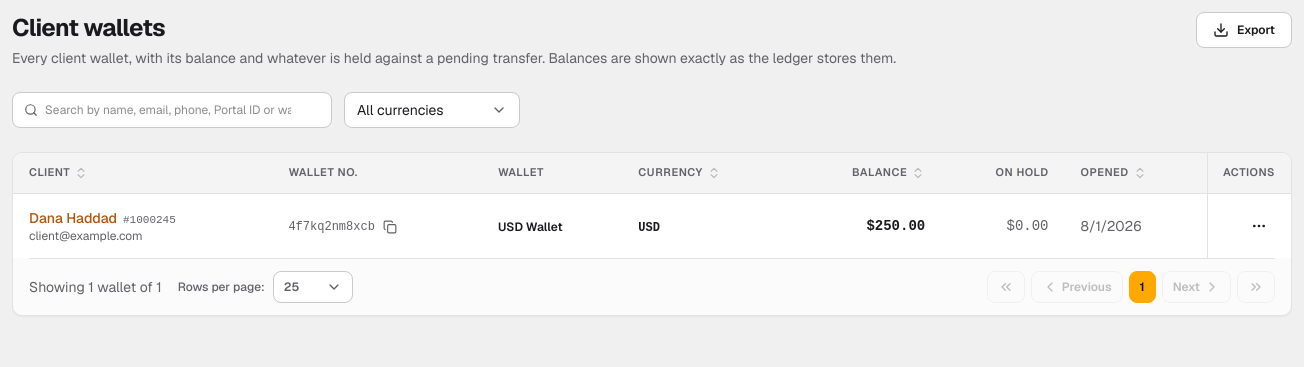
Test: wallets — one write action, and only one › offers add funds and close, and nothing else
Expected: the text "client@example.com" is shown, [29, 228, 143, 244]
Click the button named "actions for".
click(1259, 226)  # box [1243, 210, 1275, 242]
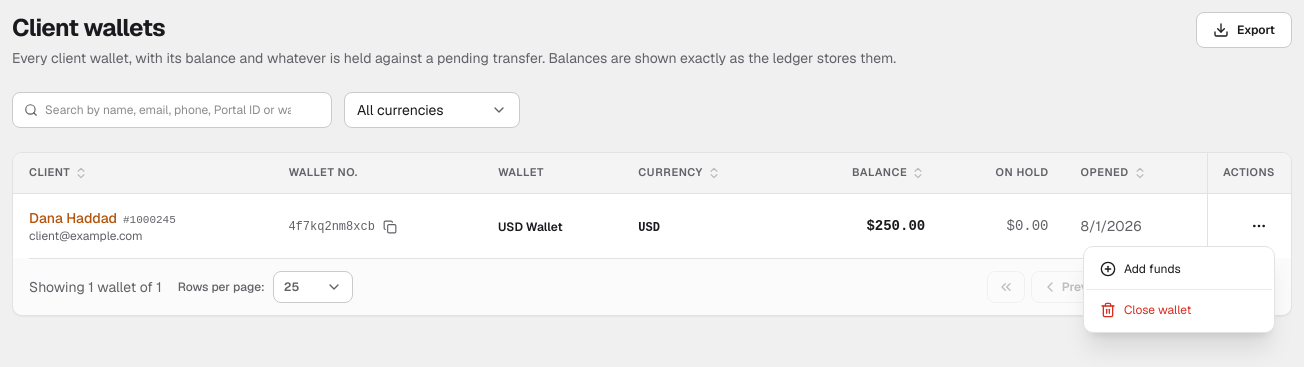
Expected: the menu item "Add funds" is shown, [1100, 261, 1181, 277]
Expected: the menu item "Close wallet" is shown, [1100, 302, 1191, 318]
